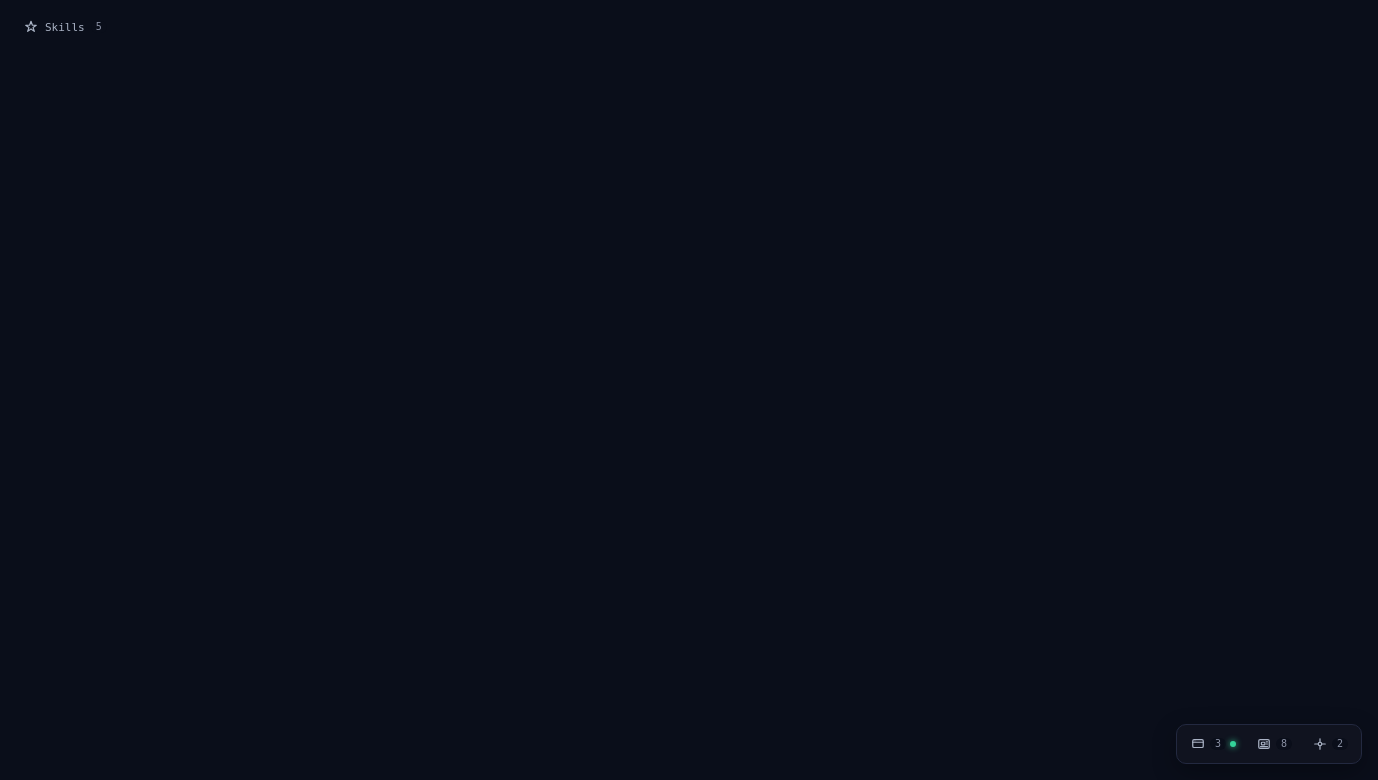
Scenario: BottomRightDock › Map is a dock panel next to the other bottom tools
Click the button named "Map".
click(1274, 744)  # box left=1247, top=729, right=1301, bottom=759
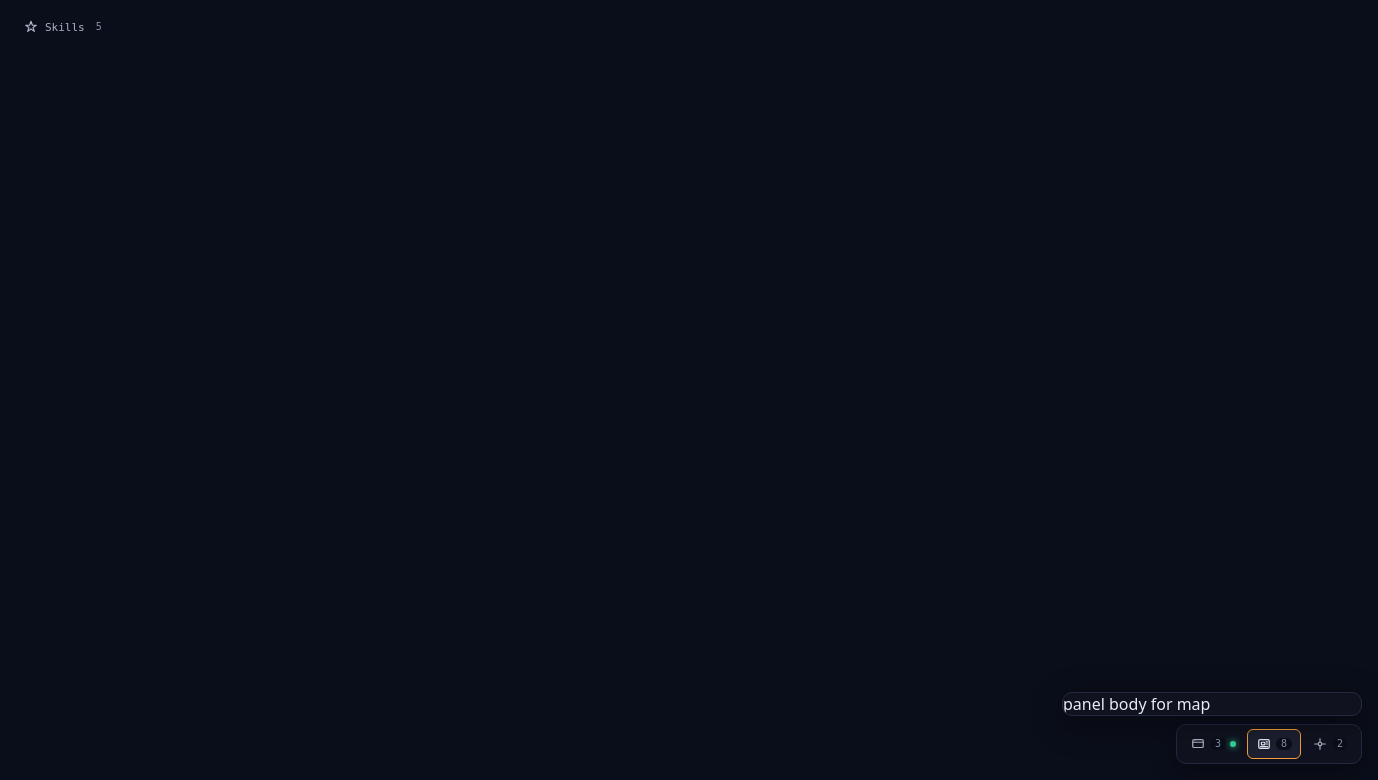
Expected: the text "panel body for map" is shown, left=1063, top=693, right=1210, bottom=715
